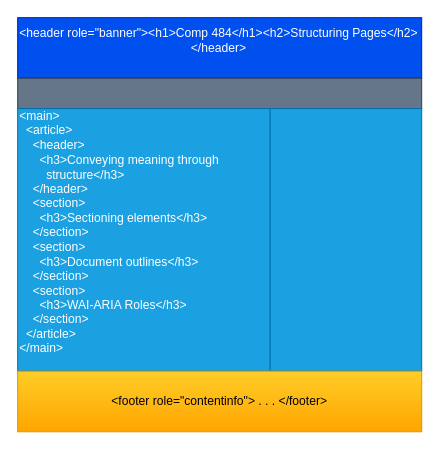
This 439x449 diagram has some shape labels left out. The shapes that lost their labels are listed below. From the top down, each one's centre as x and y in pixels, then its label:
(x=219, y=93): <nav> . . . </nav>
(x=345, y=239): <aside role="complementary"> <h4>W3C Warning</h4> </aside>
